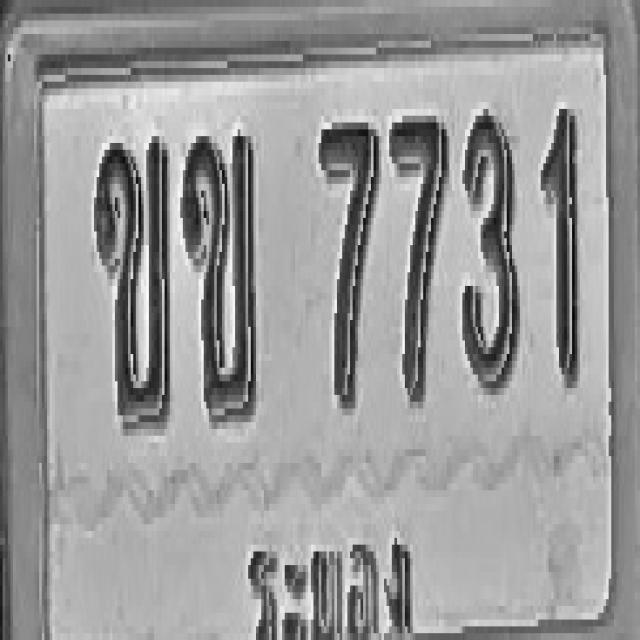1: (540, 102, 578, 388)
11KhorKhai: (93, 136, 171, 429), (182, 129, 258, 422)
3: (460, 106, 520, 392)
7: (318, 119, 378, 412), (390, 112, 450, 405)
Rayong: (242, 525, 422, 640)
